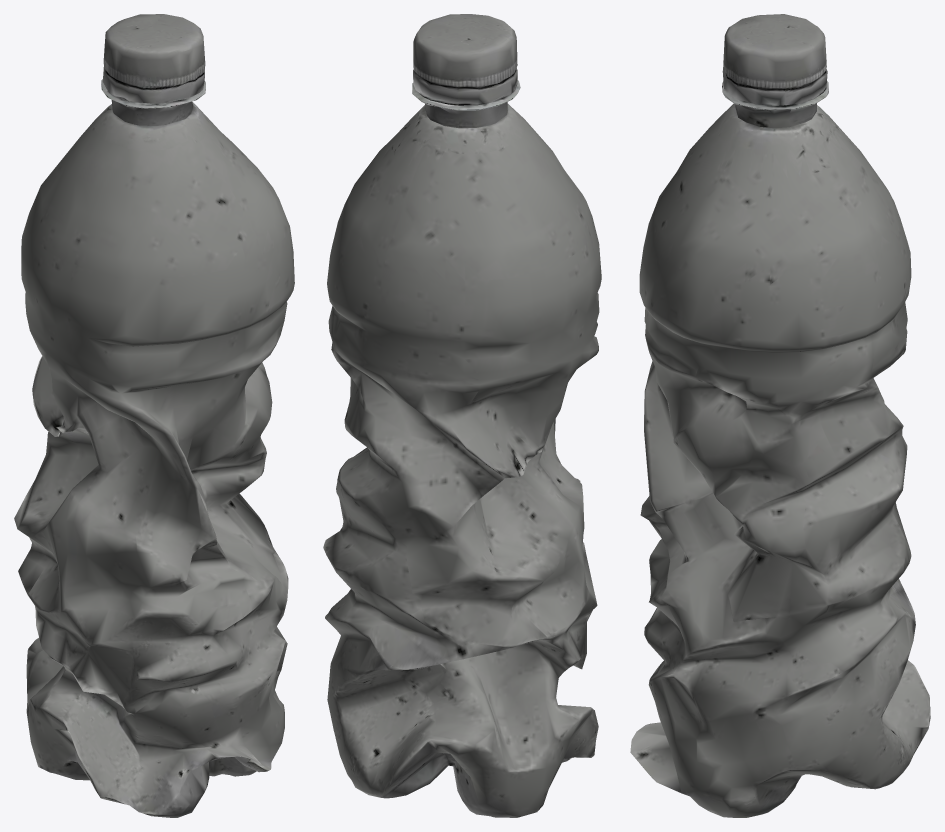
File: prop_bottle.glb
3 renders of one model, left to right at view 1: azimuth 30°, elevation 25°; view 2: azimuth 150°, elevation 25°; view 3: azimuth 270°, elevation 25°, orthographic.
Visible parts, largest first — view 1: tripo_node_8360b4e0-890f-4ce6-9b12-4da8dfe0d4e8; view 2: tripo_node_8360b4e0-890f-4ce6-9b12-4da8dfe0d4e8; view 3: tripo_node_8360b4e0-890f-4ce6-9b12-4da8dfe0d4e8.
Part boxes in pixels (x1,y1,x2,y2): tripo_node_8360b4e0-890f-4ce6-9b12-4da8dfe0d4e8: (14,14,294,817); tripo_node_8360b4e0-890f-4ce6-9b12-4da8dfe0d4e8: (323,14,601,817); tripo_node_8360b4e0-890f-4ce6-9b12-4da8dfe0d4e8: (630,14,930,817).
Bounding box in the file's own units: 0.0822 × 0.25 × 0.0902.
1 material, 1 textured.
